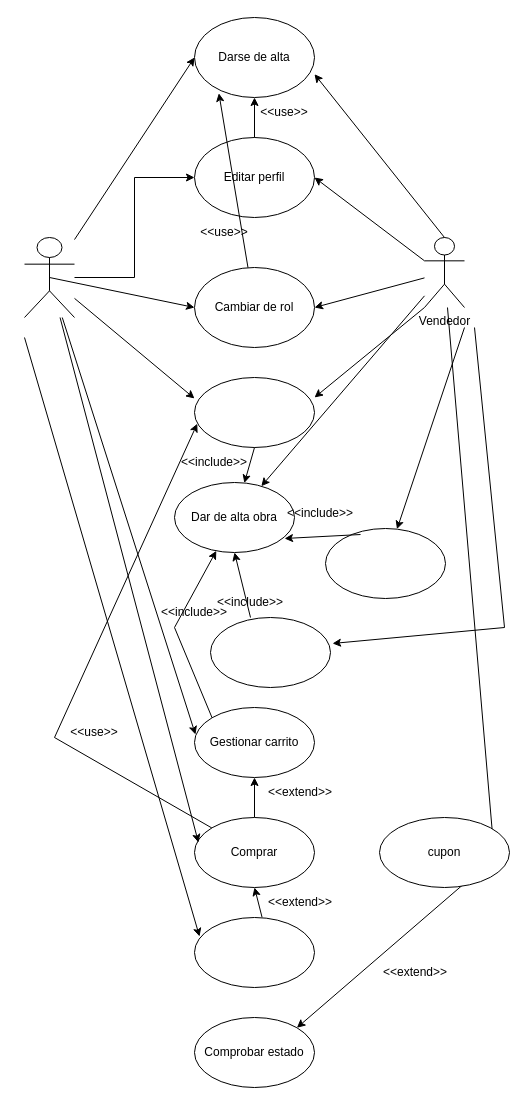
Some shapes in this 530 by 1105 pixel diagram are drawn without their labels. Each missing label, with the centre of its shape:
Borrar Obra: point (270, 652)
Buscar obra: point (254, 412)
Comprador: point (49, 277)
Efectuar pago: point (254, 952)
Modificar/editar obra: point (385, 563)
